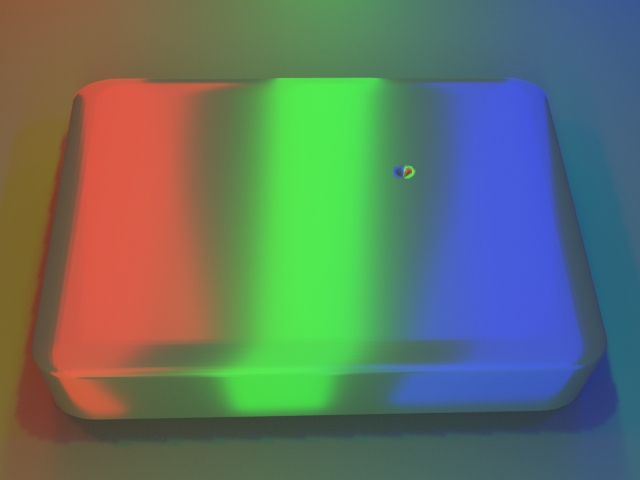dent: (390, 148, 432, 194)
